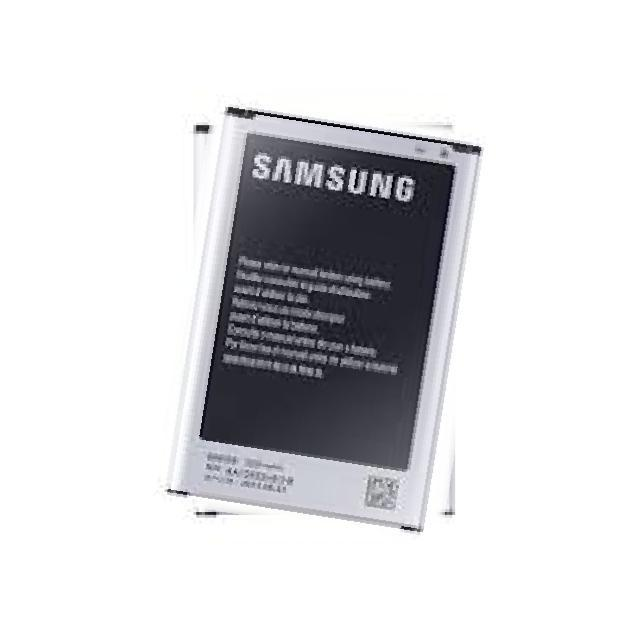Battery: (136, 78, 516, 548)
